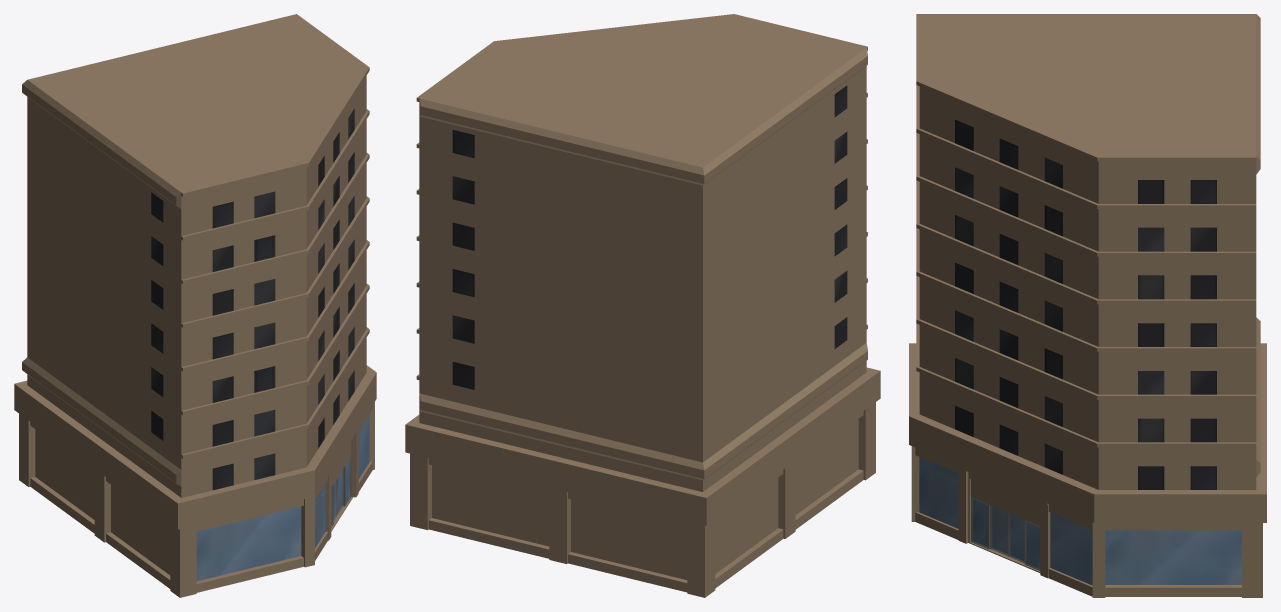
File: Bld_Building_GB.fbx
3 views of the same model, side by side, from view 1: azimuth 30°, elevation 25°; view 2: azimuth 150°, elevation 25°; view 3: azimuth 270°, elevation 25° (orthographic). The views are drawn at different scales.
Parts seen in each view (by area): view 1: Bld_Building_GB; view 2: Bld_Building_GB; view 3: Bld_Building_GB.
Boxes of the visible parts, x1,y1,x2,y2 form: Bld_Building_GB: (14,14,376,597); Bld_Building_GB: (405,14,880,597); Bld_Building_GB: (909,14,1266,597).
Bounding box in the file's own units: 1700 × 2300 × 1700.
